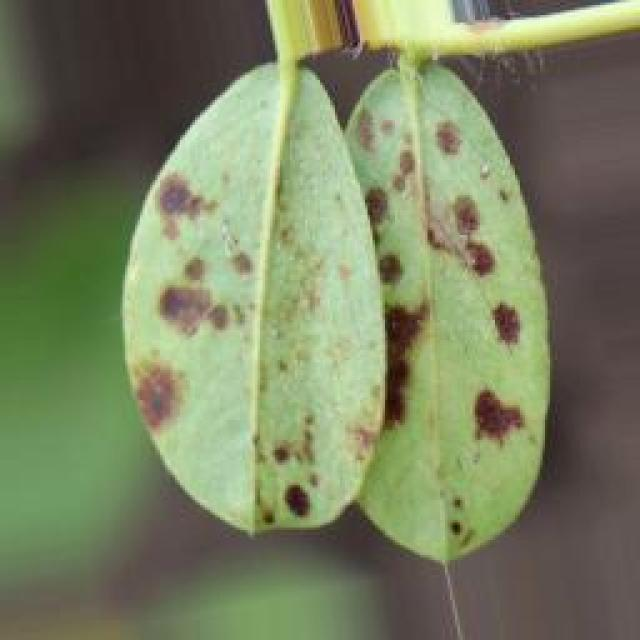Whitefly: (89, 74, 569, 547)
